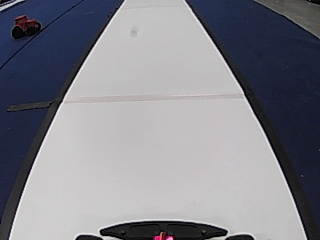tractor: (10, 13, 41, 38)
